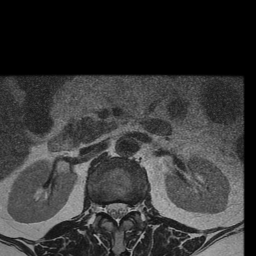CCS_normal: (113, 195, 121, 231)
LFS_stenosis: (128, 201, 135, 218)
LLS_normal: (121, 196, 128, 221)
RFS_normal: (98, 198, 106, 218)
RLS_normal: (106, 199, 113, 223)
